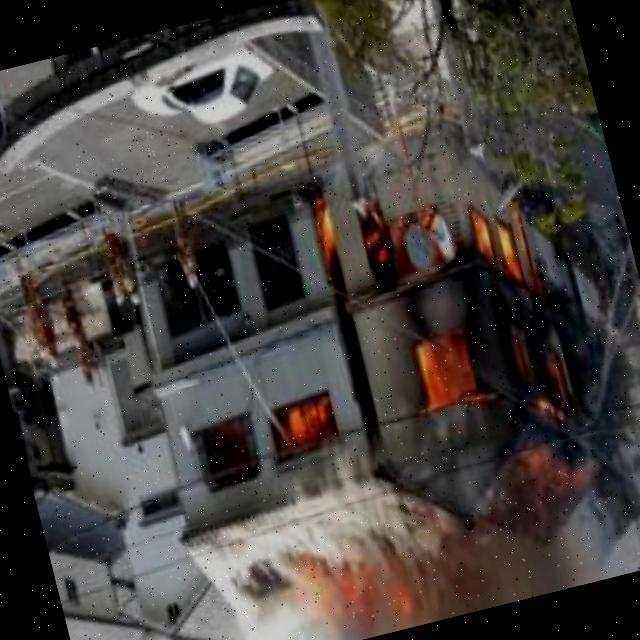fire: (292, 137, 612, 555), (268, 535, 410, 640), (256, 392, 336, 465)
